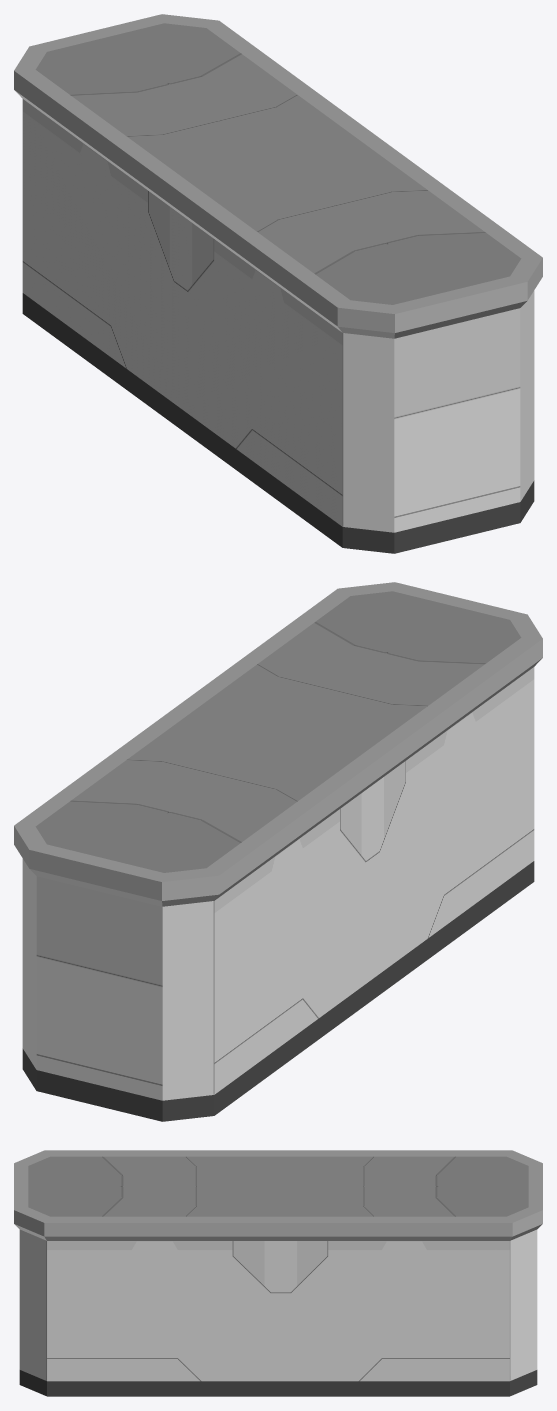
File: SM_Platform_5.fbx
3 renders of one model, top to bottom at view 1: azimuth 30°, elevation 25°; view 2: azimuth 150°, elevation 25°; view 3: azimuth 270°, elevation 25°, orthographic. The views are drawn at different scales.
Visible parts, largest first — view 1: SM_Platform_E; view 2: SM_Platform_E; view 3: SM_Platform_E.
Part boxes in pixels (left/top/right/bottom): SM_Platform_E: left=14, top=14, right=542, bottom=553; SM_Platform_E: left=14, top=582, right=542, bottom=1121; SM_Platform_E: left=14, top=1150, right=542, bottom=1396.
Bounding box in the file's own units: 132 × 150 × 409.
